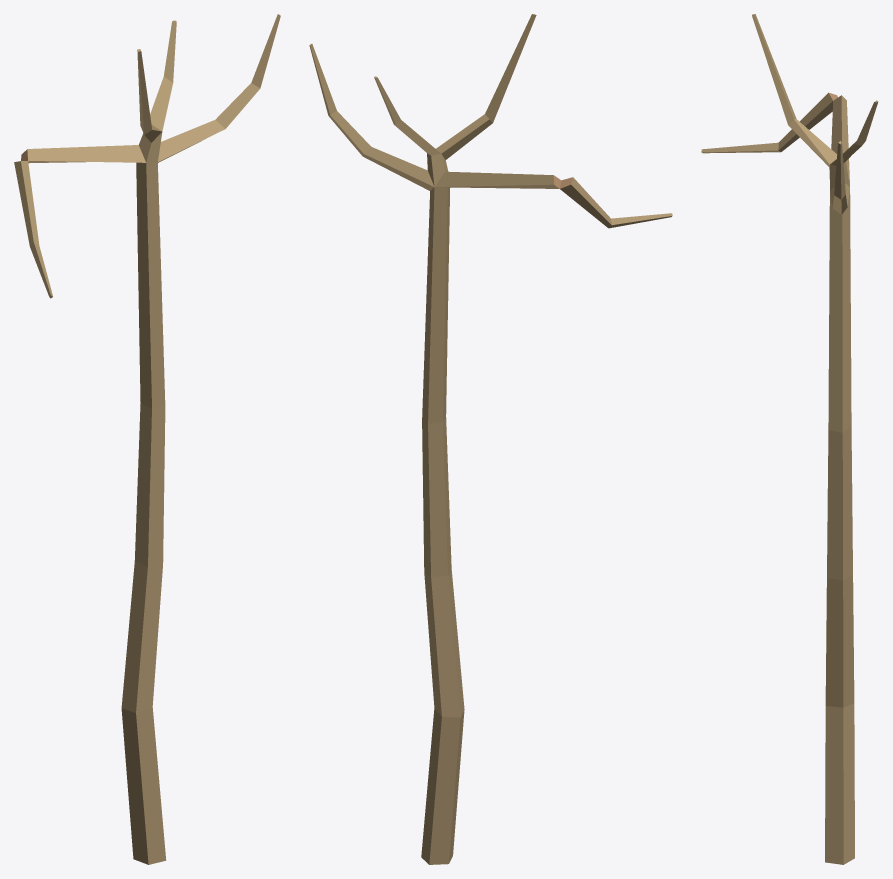
File: Acacia_Tree_NoLeaves_crk_m_BT_02.fbx
The picture shows the model from 3 angles, left to right: view 1: azimuth 30°, elevation 25°; view 2: azimuth 150°, elevation 25°; view 3: azimuth 270°, elevation 25°; orthographic projection. The views are drawn at different scales.
Parts seen in each view (by area): view 1: Acacia_Tree_NoLeaves_crk_m_BT_02; view 2: Acacia_Tree_NoLeaves_crk_m_BT_02; view 3: Acacia_Tree_NoLeaves_crk_m_BT_02.
Part boxes in pixels (<box>): Acacia_Tree_NoLeaves_crk_m_BT_02: <box>14,14,280,864</box>; Acacia_Tree_NoLeaves_crk_m_BT_02: <box>309,14,672,864</box>; Acacia_Tree_NoLeaves_crk_m_BT_02: <box>701,14,878,864</box>.
Size of the model in its own units: 320 by 860 by 169.
